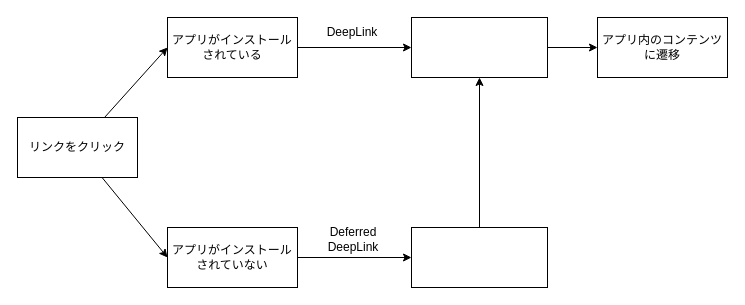
Image size: 745x305. Some labels were removed from this diagram. The centre of each missing label's shape, as x and y in pixels:
"アプリを起動" belongs at point (479, 47).
"アプリストアに遷移し、アプリをインストール" belongs at point (479, 257).
